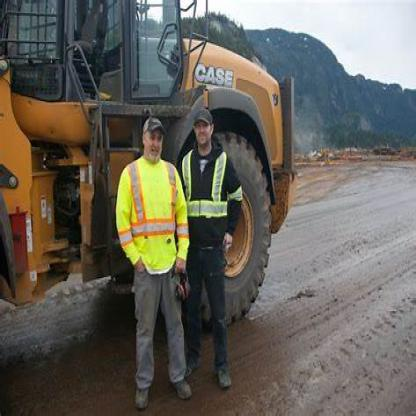person: (113, 114, 188, 395), (181, 105, 248, 390)
